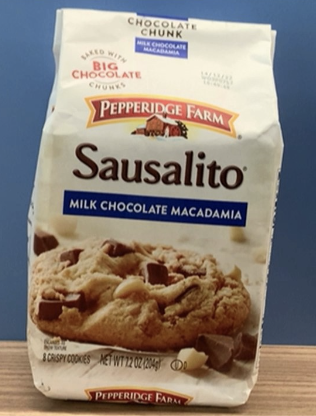cookies_200g-299g: (54, 92, 247, 373)
